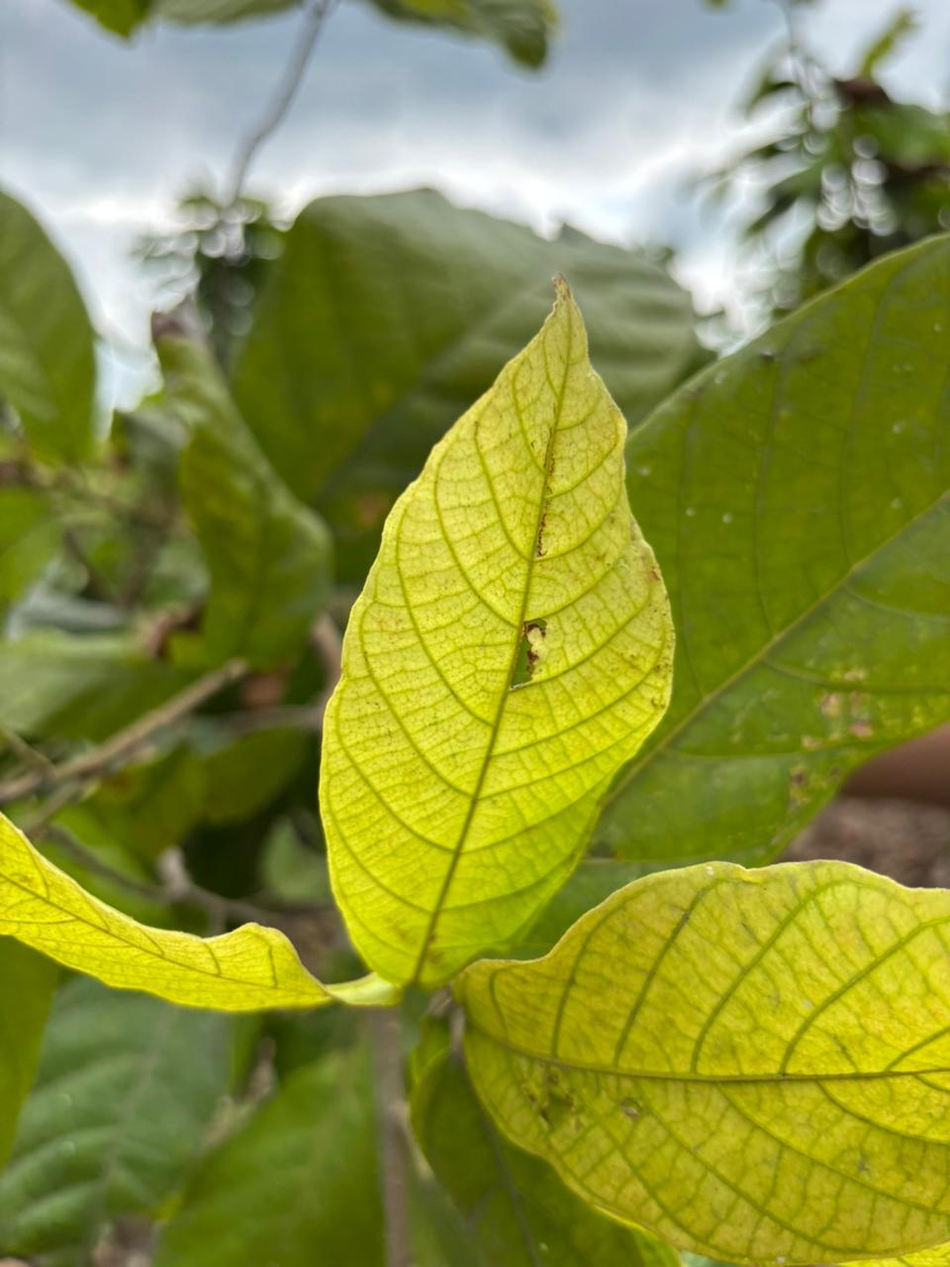deficiencia_nitrogeno: (320, 282, 673, 988), (456, 863, 949, 1266), (0, 814, 394, 1012)
